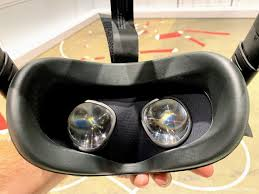oculus: (5, 49, 250, 178)
